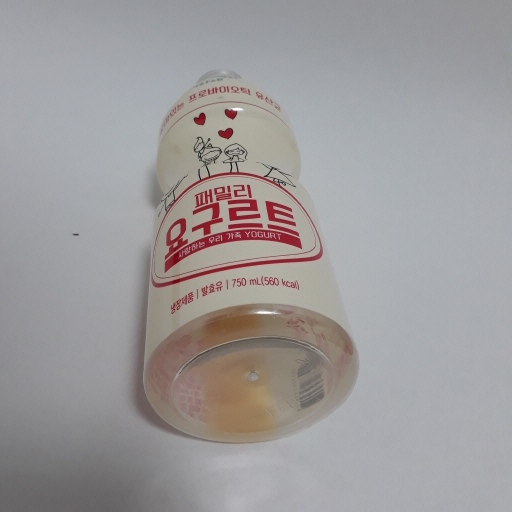Plastic_0: (141, 68, 364, 446)
